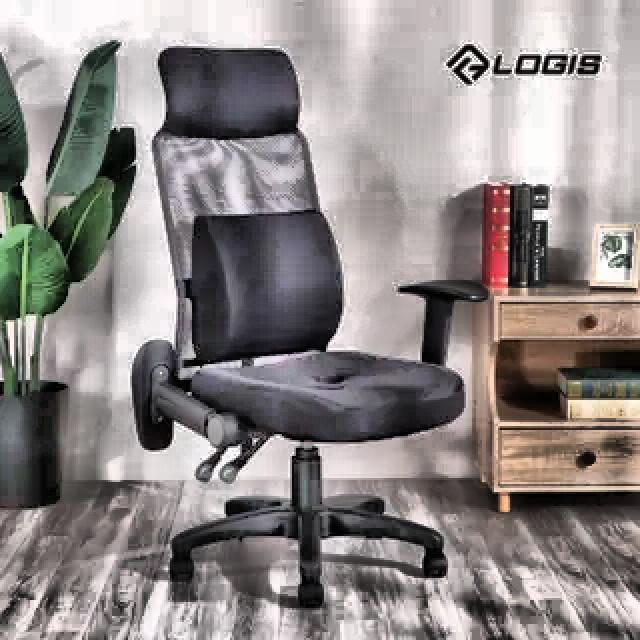cadeira: (130, 38, 489, 607)
